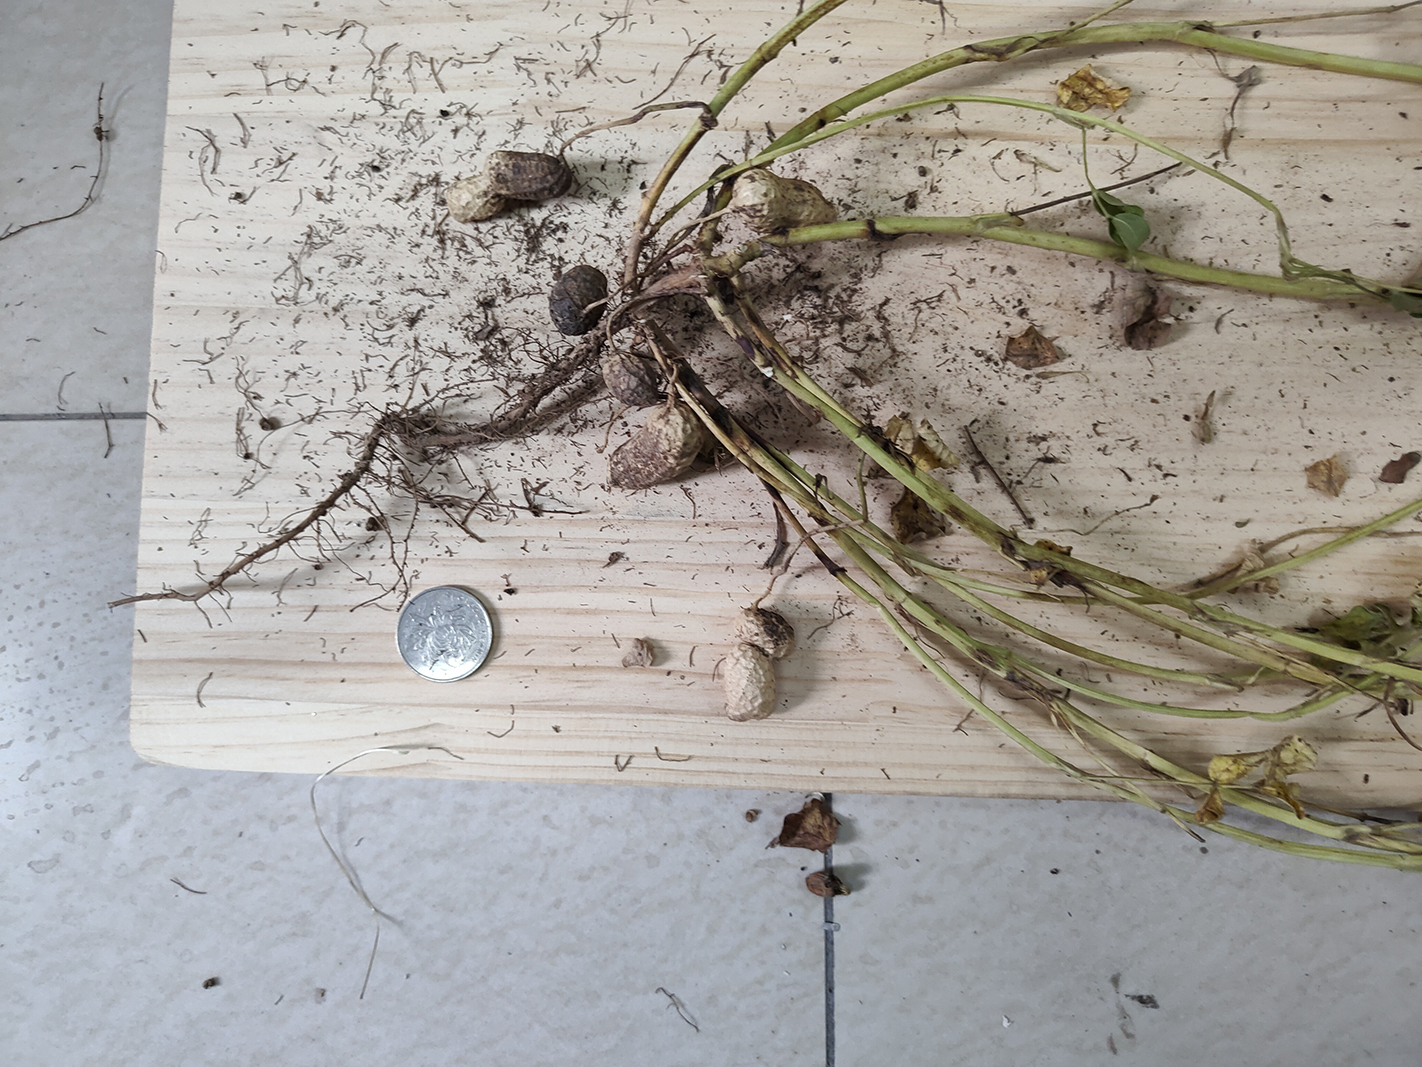h: (443, 150, 571, 222), (721, 607, 794, 722), (732, 169, 839, 234)
l: (607, 405, 704, 492), (549, 265, 607, 336), (603, 353, 656, 405)
